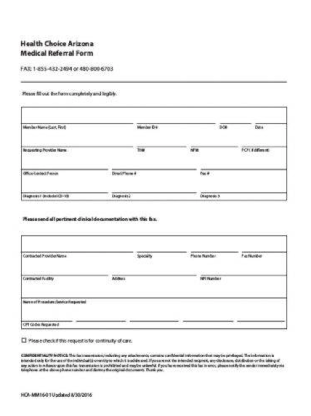checkbox: (20, 336, 28, 344)
textline: (20, 286, 286, 299), (21, 135, 135, 149), (22, 241, 136, 255), (21, 158, 110, 173), (199, 158, 285, 173), (110, 158, 199, 172), (199, 264, 286, 278), (110, 182, 198, 195), (21, 264, 109, 277), (23, 115, 135, 125), (111, 264, 197, 277), (22, 183, 111, 195), (200, 183, 285, 195), (139, 115, 218, 126), (136, 134, 188, 149), (190, 134, 240, 149), (136, 242, 189, 255), (189, 241, 240, 254), (241, 134, 286, 148), (240, 241, 288, 254), (181, 312, 235, 323), (22, 312, 74, 323), (76, 312, 128, 323), (128, 312, 180, 323), (235, 312, 287, 323), (254, 114, 288, 127), (218, 114, 255, 125)
